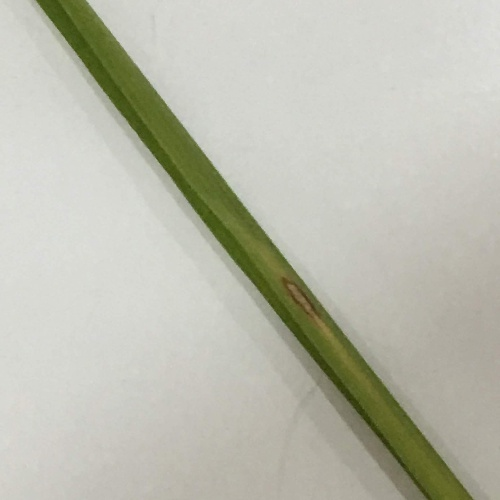Busuk Leher: (277, 263, 324, 328)
